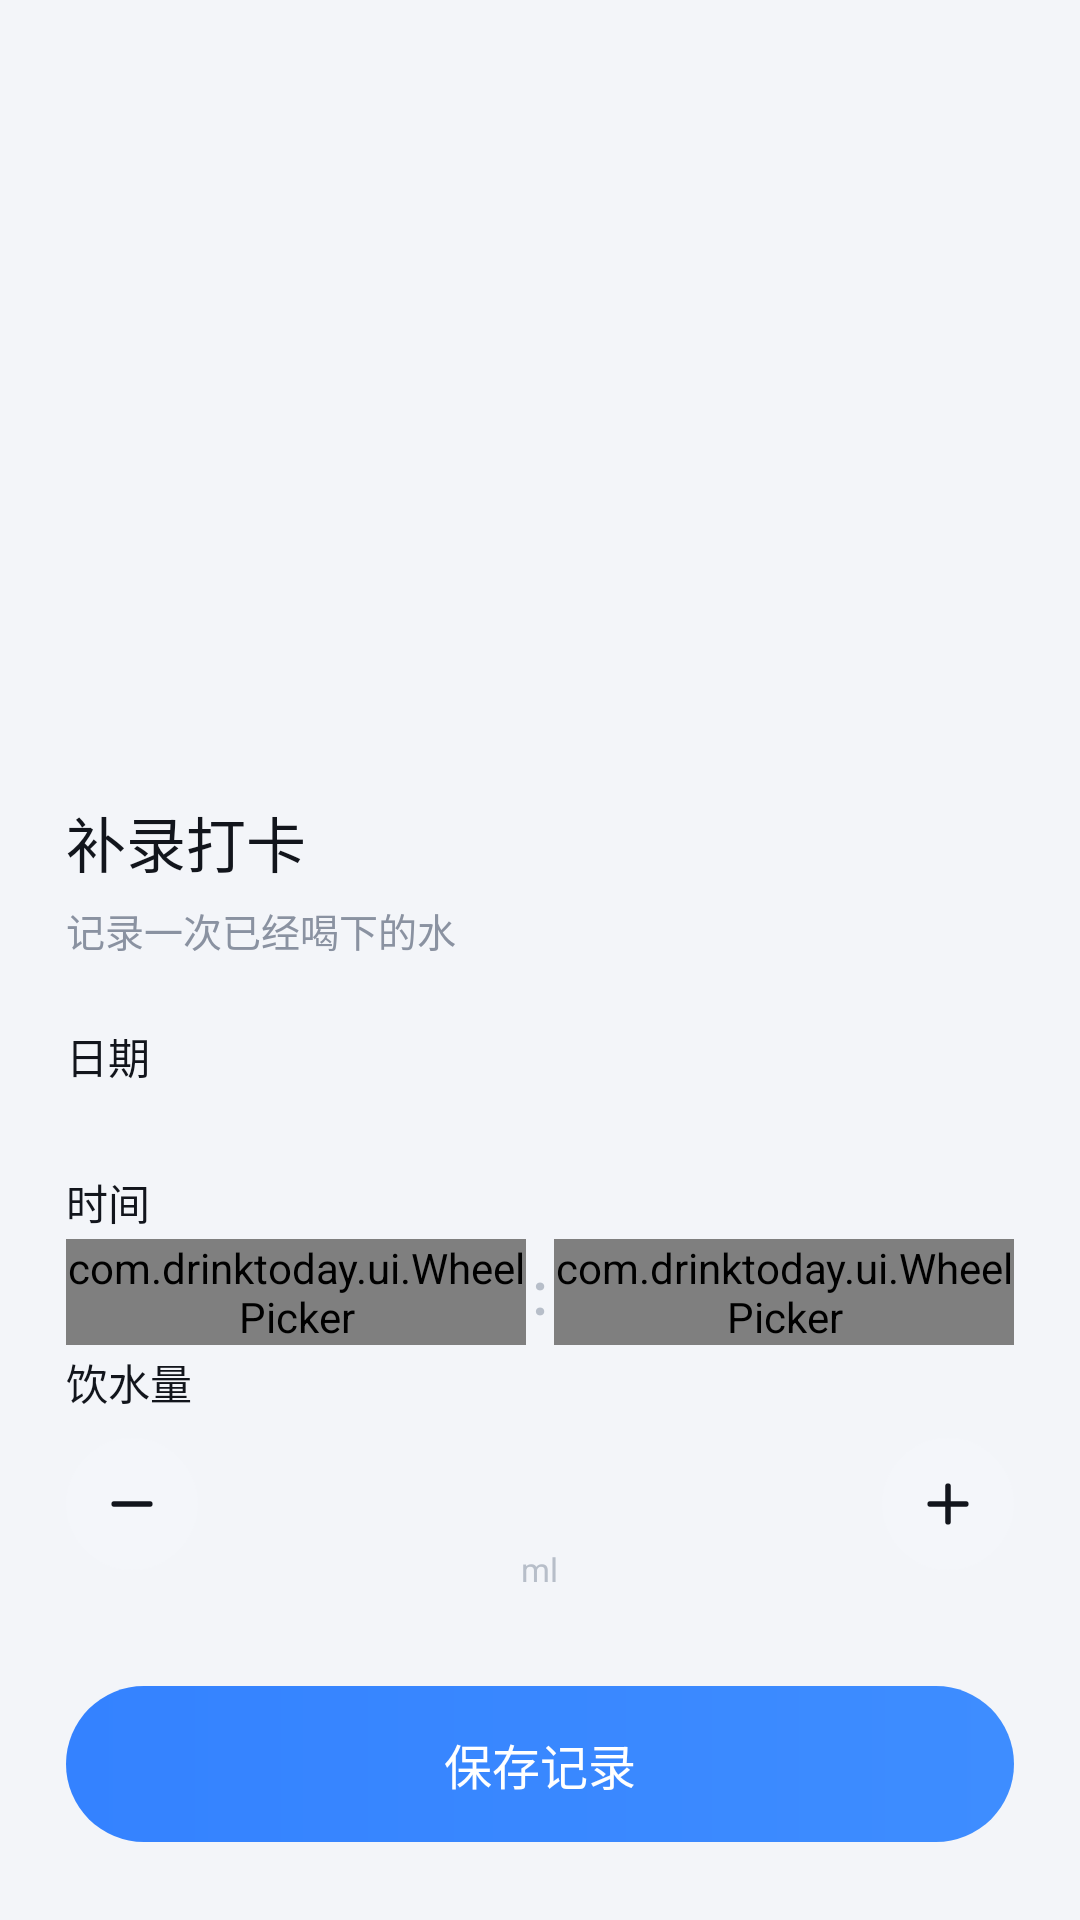

Screen size 1080×1920. Icon name, then its box in pixels as bbox(x1, y1, x2, y2):
plus: bbox(927, 1483, 969, 1525)
